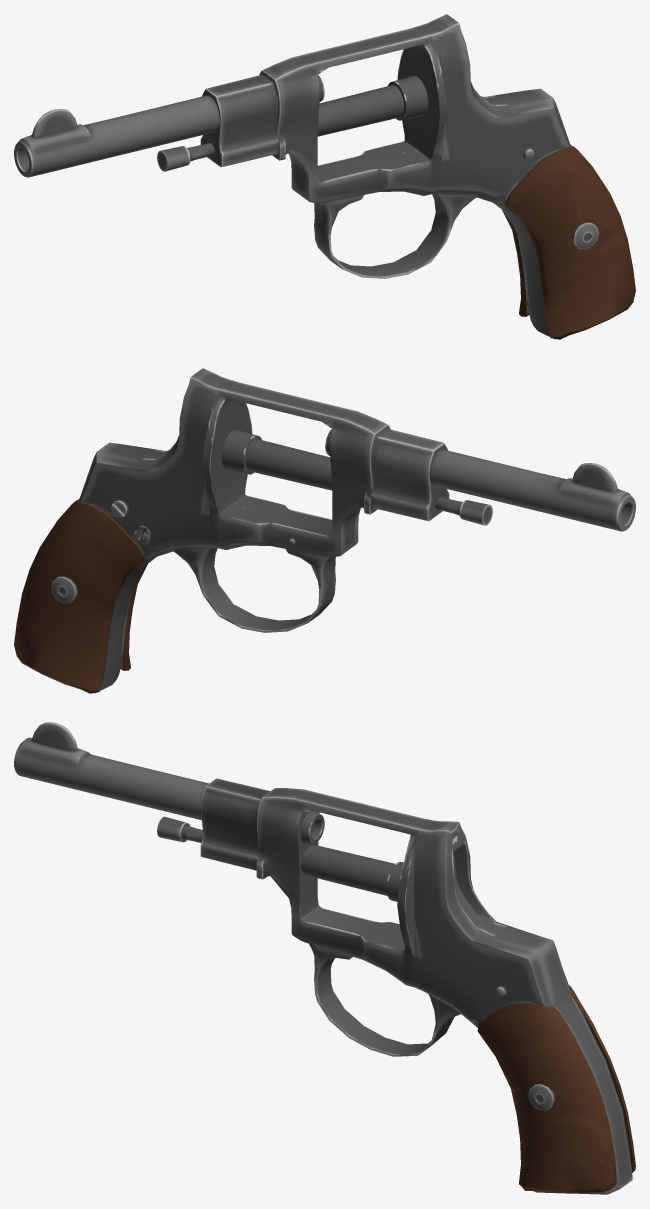
Rendered from framegun.dae.
3 renders of one model, top to bottom at view 1: azimuth 30°, elevation 25°; view 2: azimuth 150°, elevation 25°; view 3: azimuth 330°, elevation 25°, orthographic.
Visible parts, largest first — view 1: Nagan_Body; view 2: Nagan_Body; view 3: Nagan_Body.
Boxes of the visible parts, x1=… form: Nagan_Body: x1=14, y1=14, x2=635, y2=339; Nagan_Body: x1=14, y1=368, x2=635, y2=693; Nagan_Body: x1=14, y1=722, x2=635, y2=1194.
Bounding box in the file's own units: 2.43 × 0.3385 × 1.31.
